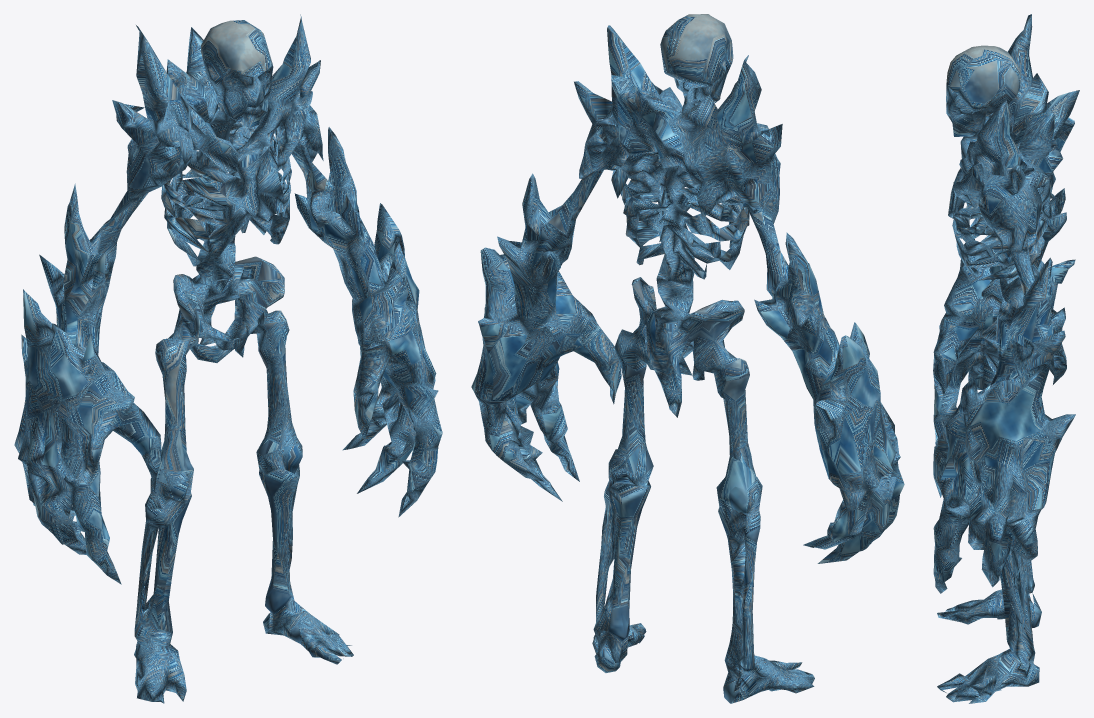
The model's file is rimebound_horror.glb.
The picture shows the model from 3 angles, left to right: view 1: azimuth 30°, elevation 25°; view 2: azimuth 150°, elevation 25°; view 3: azimuth 270°, elevation 25°; orthographic projection. The views are drawn at different scales.
Visible parts, largest first — view 1: Mesh_0; view 2: Mesh_0; view 3: Mesh_0.
Part boxes in pixels (<box>): Mesh_0: <box>14,14,442,703</box>; Mesh_0: <box>471,14,904,703</box>; Mesh_0: <box>933,14,1079,703</box>.
Size of the model in its own units: 1.24 by 1.9 by 0.4161.
1 material, 1 textured.
